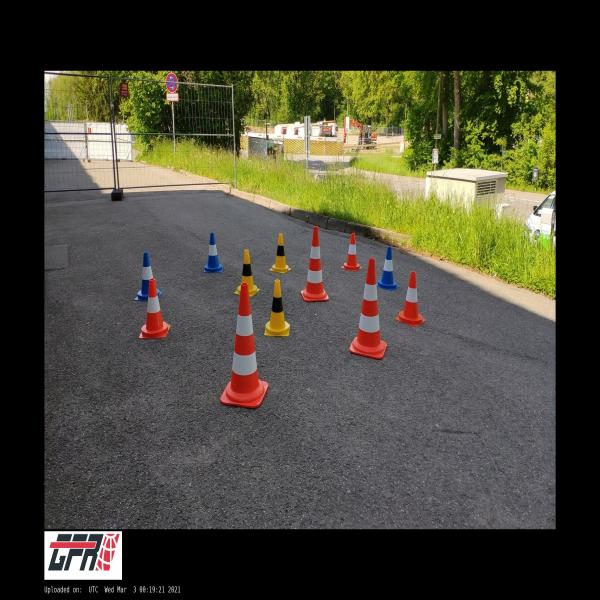blue_cone: (135, 251, 162, 300), (377, 246, 400, 291), (204, 232, 223, 272)
large_orange_cone: (220, 282, 268, 407), (349, 258, 387, 360), (301, 226, 328, 301)
orange_cone: (139, 279, 170, 338), (395, 272, 426, 326), (340, 232, 362, 271)
yellow_cone: (265, 280, 290, 336), (234, 249, 260, 296), (269, 233, 291, 273)
